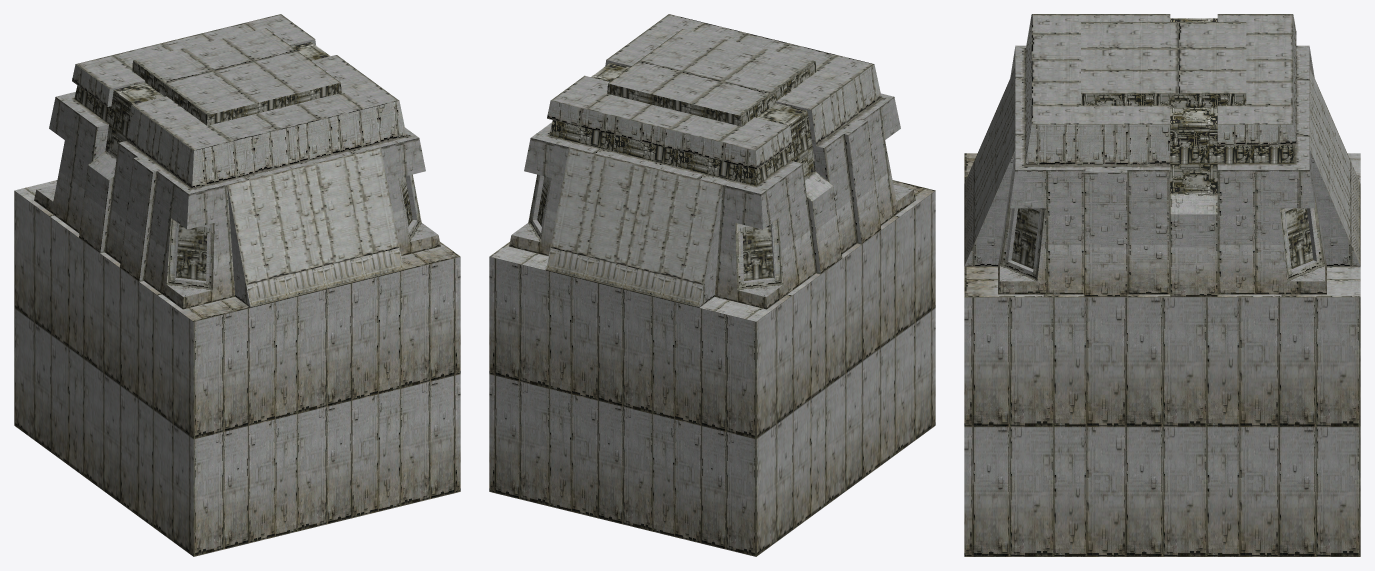
File: ins_all_def_turret_lg_s01_l0.fbx
3 views of the same model, side by side, from view 1: azimuth 30°, elevation 25°; view 2: azimuth 150°, elevation 25°; view 3: azimuth 270°, elevation 25° (orthographic). The views are drawn at different scales.
Visible parts, largest first — view 1: mesh_node; view 2: mesh_node; view 3: mesh_node.
Boxes of the visible parts, left/top/right/bottom form: mesh_node: left=14, top=14, right=460, bottom=556; mesh_node: left=489, top=14, right=935, bottom=556; mesh_node: left=964, top=14, right=1360, bottom=556.
Size of the model in its own units: 4.89 by 6.77 by 5.7.
